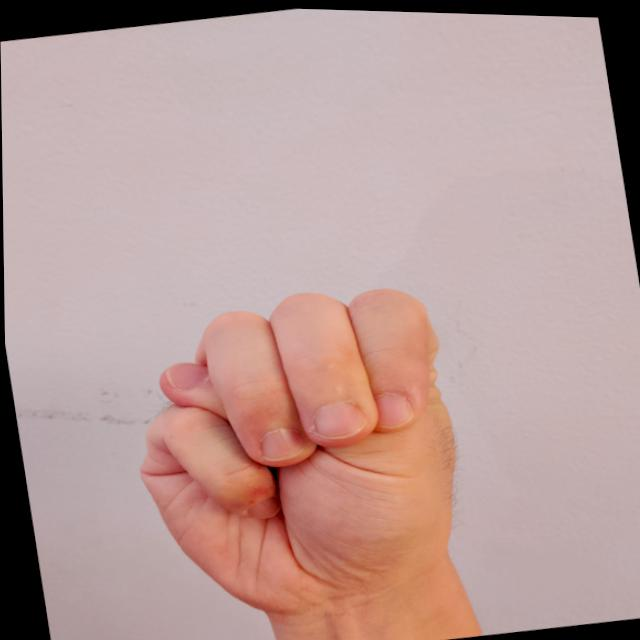M: (102, 261, 492, 639)
